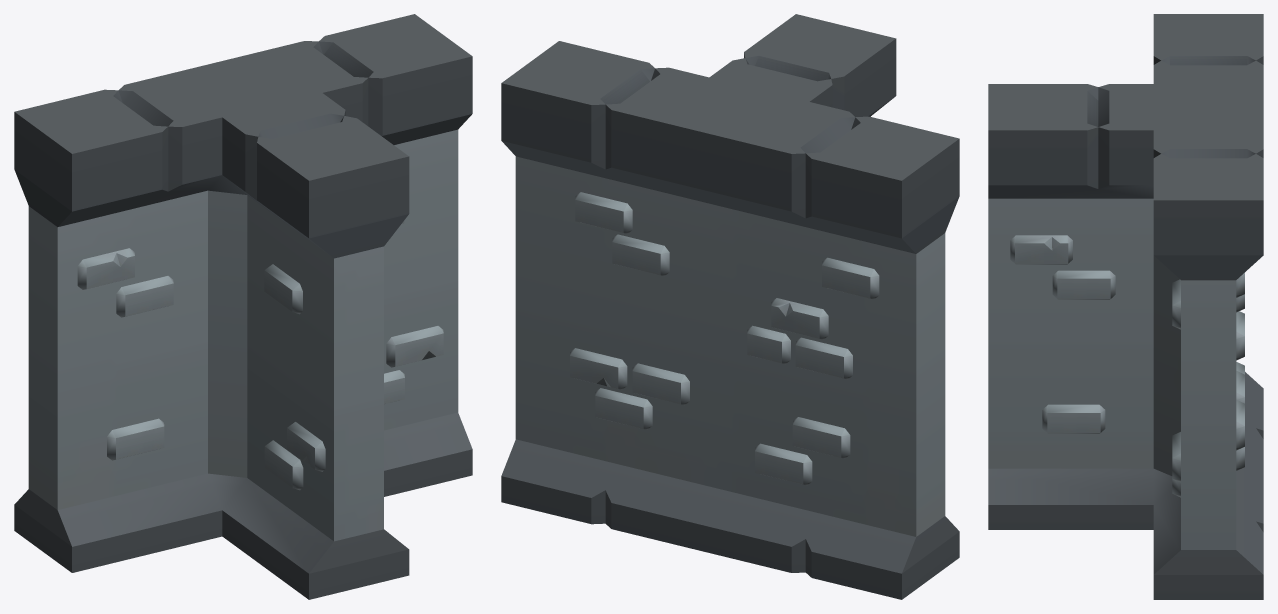
The model's file is kaykit-dungeon-remastered-wall-tsplit-gltf.glb.
The picture shows the model from 3 angles, left to right: view 1: azimuth 30°, elevation 25°; view 2: azimuth 150°, elevation 25°; view 3: azimuth 270°, elevation 25°; orthographic projection. The views are drawn at different scales.
Parts seen in each view (by area): view 1: wall_Tsplit; view 2: wall_Tsplit; view 3: wall_Tsplit.
Boxes of the visible parts, left/top/right/bottom form: wall_Tsplit: left=14, top=14, right=472, bottom=599; wall_Tsplit: left=501, top=14, right=959, bottom=599; wall_Tsplit: left=988, top=14, right=1263, bottom=599.
Size of the model in its own units: 4 by 4 by 2.5.
1 material, 1 textured.
